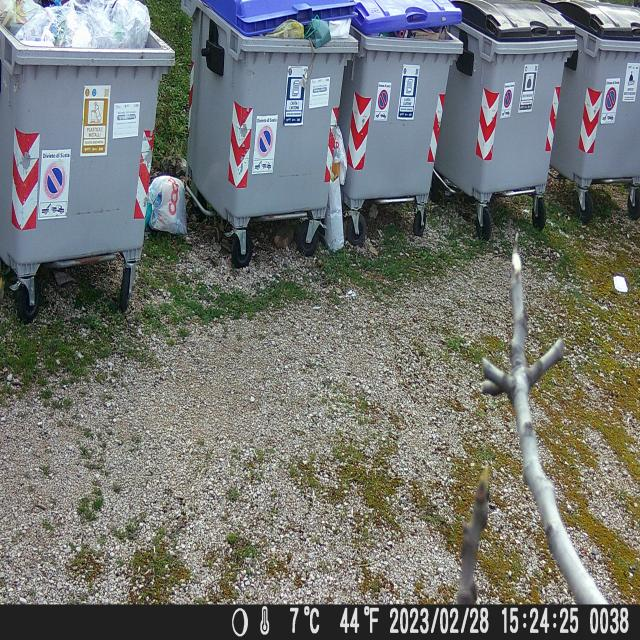sampah-detection: (3, 0, 161, 59), (269, 8, 358, 46), (146, 168, 188, 232), (323, 178, 346, 249)
